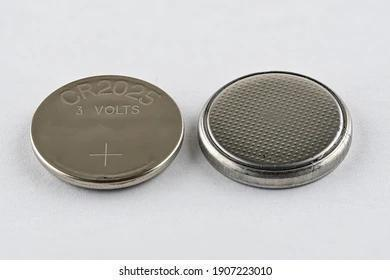COIN: (196, 68, 356, 192), (29, 72, 187, 194)
